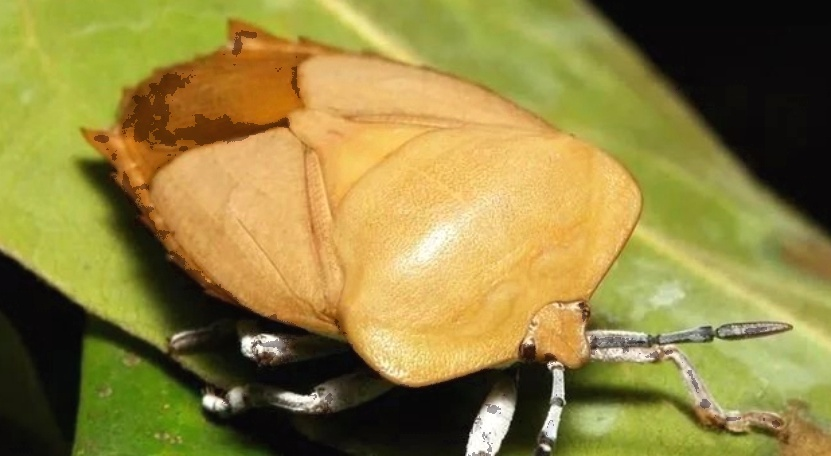Stink_Bug: (115, 38, 697, 395)
